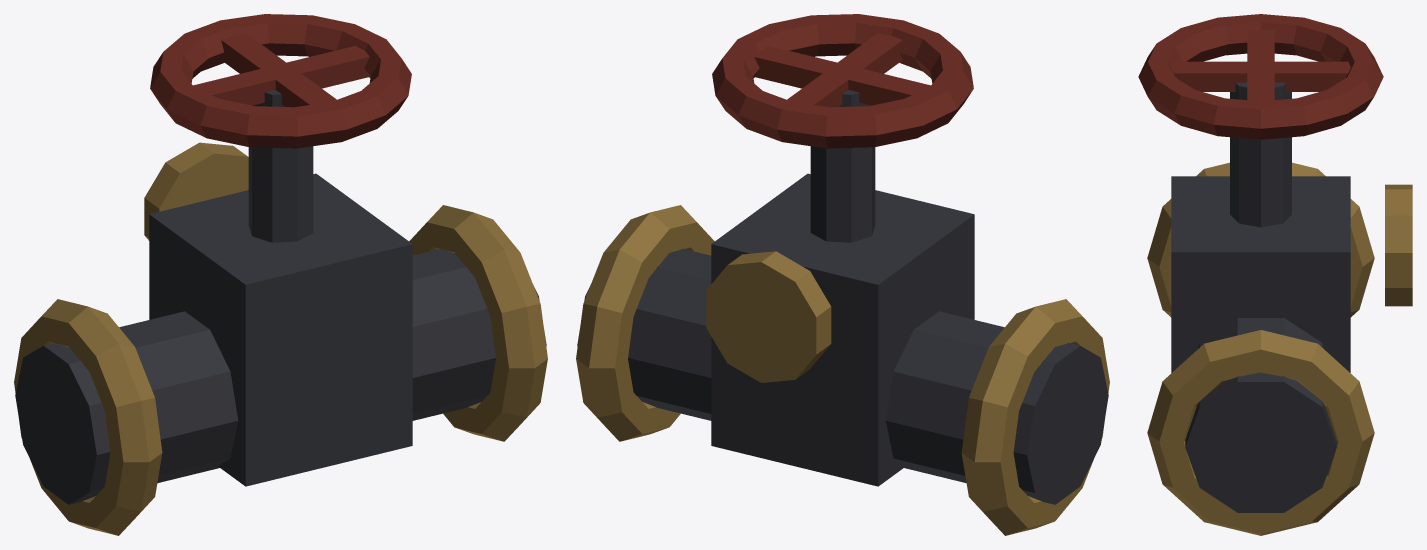
File: tt_pipe_valve.glb
3 renders of one model, left to right at view 1: azimuth 30°, elevation 25°; view 2: azimuth 150°, elevation 25°; view 3: azimuth 270°, elevation 25°, orthographic. The views are drawn at different scales.
Parts seen in each view (by area): view 1: Body, Run, Wheel, Collar, Collar.001, Stem, Gauge, Spoke, Spoke.001; view 2: Body, Run, Wheel, Collar, Collar.001, Gauge, Stem, Spoke, Spoke.001; view 3: Body, Collar.001, Run, Wheel, Stem, Collar, Spoke.001, Gauge, Spoke.
Boxes of the visible parts, left/top/right/bottom form: Body: left=149, top=173, right=412, bottom=486; Run: left=15, top=248, right=546, bottom=504; Wheel: left=150, top=14, right=411, bottom=148; Collar: left=14, top=299, right=162, bottom=535; Collar.001: left=409, top=205, right=547, bottom=441; Stem: left=248, top=90, right=313, bottom=242; Gauge: left=144, top=142, right=248, bottom=240; Spoke: left=193, top=46, right=369, bottom=105; Spoke.001: left=221, top=33, right=336, bottom=107; Body: left=711, top=173, right=974, bottom=486; Run: left=577, top=248, right=1108, bottom=504; Wheel: left=712, top=14, right=973, bottom=148; Collar: left=961, top=299, right=1109, bottom=535; Collar.001: left=576, top=205, right=714, bottom=441; Gauge: left=706, top=251, right=831, bottom=382; Stem: left=810, top=90, right=875, bottom=242; Spoke: left=754, top=46, right=930, bottom=105; Spoke.001: left=787, top=33, right=902, bottom=107; Body: left=1171, top=176, right=1350, bottom=372; Collar.001: left=1147, top=330, right=1374, bottom=535; Run: left=1185, top=318, right=1336, bottom=512; Wheel: left=1138, top=14, right=1383, bottom=139; Stem: left=1230, top=82, right=1291, bottom=227; Collar: left=1147, top=162, right=1374, bottom=317; Spoke.001: left=1171, top=61, right=1350, bottom=91; Gauge: left=1385, top=184, right=1412, bottom=306; Spoke: left=1247, top=29, right=1274, bottom=101.
Size of the model in its own units: 0.7 by 0.6192 by 0.398.
